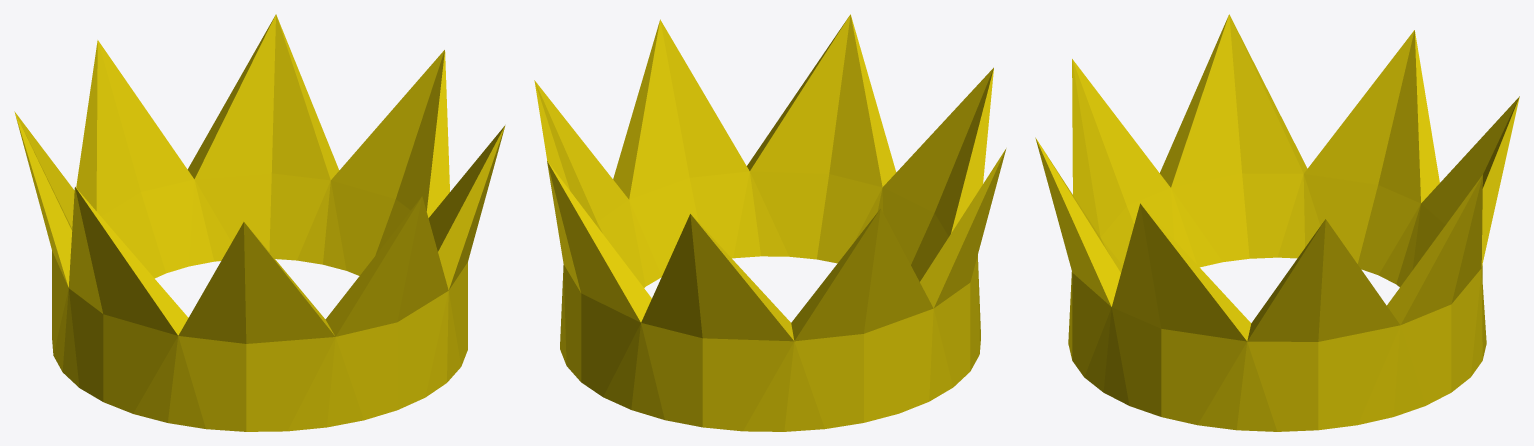
File: taç.fbx
3 renders of one model, left to right at view 1: azimuth 30°, elevation 25°; view 2: azimuth 150°, elevation 25°; view 3: azimuth 270°, elevation 25°, orthographic.
Visible parts, largest first — view 1: Cylinder; view 2: Cylinder; view 3: Cylinder.
Part boxes in pixels (bbox=[...]): Cylinder: bbox=[14, 14, 505, 431]; Cylinder: bbox=[534, 14, 1006, 431]; Cylinder: bbox=[1035, 14, 1519, 431].
Bounding box in the file's own units: 202 × 104 × 202.
